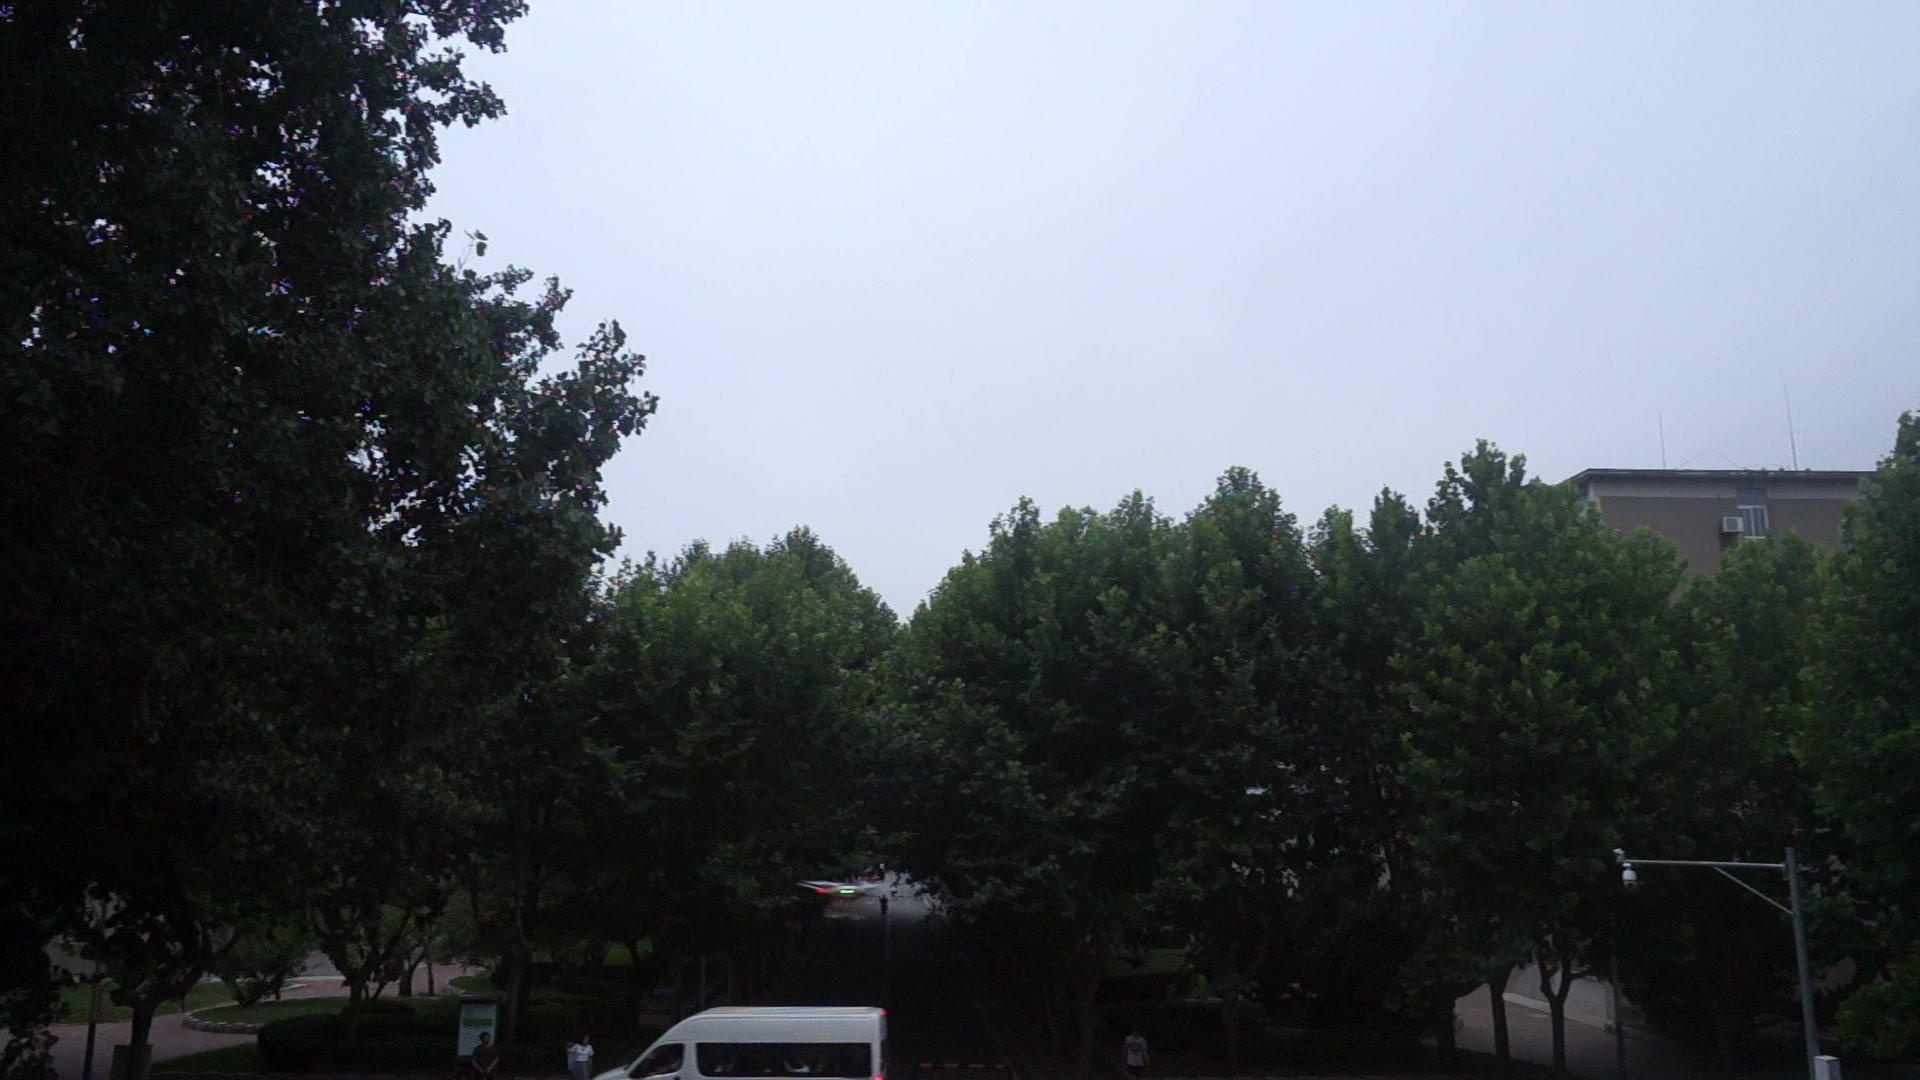UAV: (796, 881, 880, 920)
